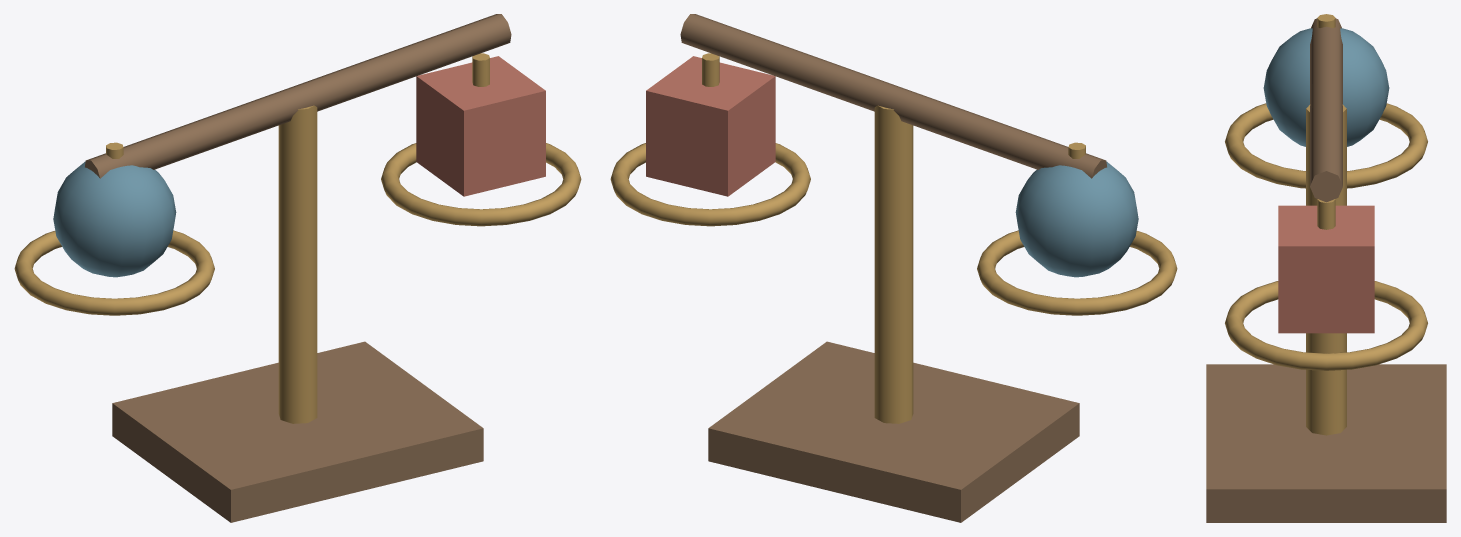
3 views of the same model, side by side, from view 1: azimuth 30°, elevation 25°; view 2: azimuth 150°, elevation 25°; view 3: azimuth 270°, elevation 25° (orthographic).
Size of the model in its own units: 1.71 by 1.16 by 0.65.
